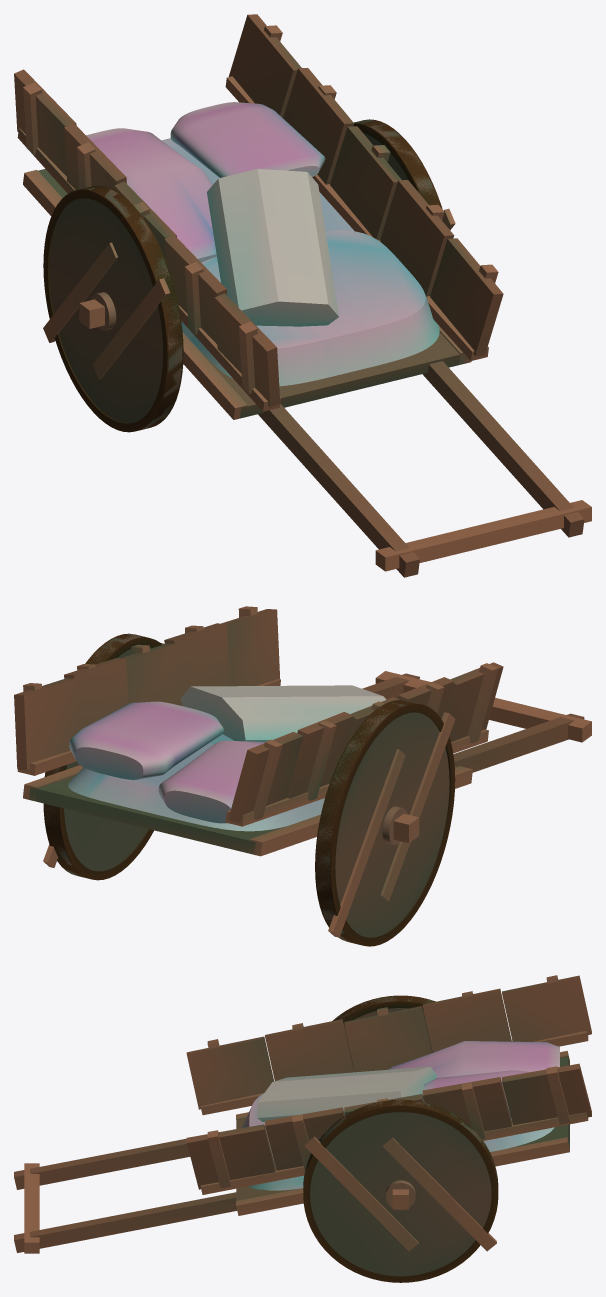
3 views of the same model, one above another, from view 1: azimuth 30°, elevation 25°; view 2: azimuth 150°, elevation 25°; view 3: azimuth 270°, elevation 25° (orthographic). The views are drawn at different scales.
Parts seen in each view (by area): view 1: front_slab, wheel_disc.001, front_fill, rear_load.001, rear_load, rim.001, shaft, shaft.003, wall_plank, floor, crossbar, wall_plank.001 (+19 smaller); view 2: wheel_disc.001, rear_load.001, front_slab, rim.001, rear_load, low_load, wall_plank.004, floor, wheel_disc, wall_plank, wall_plank.001, rim (+20 smaller); view 3: wheel_disc, front_slab, rim, wall_plank.009, wall_plank.005, wall_plank.007, rear_load, shaft, wall_plank.006, wall_plank.008, wall_plank.004, wall_plank (+20 smaller).
Part boxes in pixels (<box>): front_slab: <box>207,169,338,326</box>; wheel_disc.001: <box>49,188,182,429</box>; front_fill: <box>181,230,439,386</box>; rear_load.001: <box>170,102,325,177</box>; rear_load: <box>86,128,216,262</box>; rim.001: <box>43,185,183,432</box>; shaft: <box>422,361,584,537</box>; shaft.003: <box>258,404,419,577</box>; wall_plank: <box>430,238,503,355</box>; floor: <box>38,138,465,418</box>; crossbar: <box>375,500,591,571</box>; wall_plank.001: <box>380,180,454,296</box>; wheel_disc.001: <box>316,700,449,944</box>; rear_load.001: <box>69,701,223,779</box>; front_slab: <box>180,685,386,742</box>; rim.001: <box>315,700,455,946</box>; rear_load: <box>158,740,264,823</box>; low_load: <box>68,743,324,831</box>; wall_plank.004: <box>14,678,78,770</box>; floor: <box>29,766,456,854</box>; wheel_disc: <box>45,634,151,878</box>; wall_plank: <box>221,609,279,686</box>; wall_plank.001: <box>164,623,229,706</box>; rim: <box>43,633,162,880</box>; wheel_disc: <box>303,1100,497,1275</box>; front_slab: <box>257,1066,436,1121</box>; rim: <box>303,1099,498,1282</box>; wall_plank.009: <box>502,975,591,1041</box>; wall_plank.005: <box>186,1036,274,1109</box>; wall_plank.007: <box>344,1006,432,1072</box>; rear_load: <box>389,1041,559,1099</box>; shaft: <box>14,1192,236,1252</box>; wall_plank.006: <box>265,1019,354,1080</box>; wall_plank.008: <box>422,988,511,1052</box>; wall_plank.004: <box>502,1063,591,1125</box>; wall_plank: <box>186,1124,275,1189</box>.
Bounding box in the file's own units: 0.7815 × 0.5963 × 1.51.
